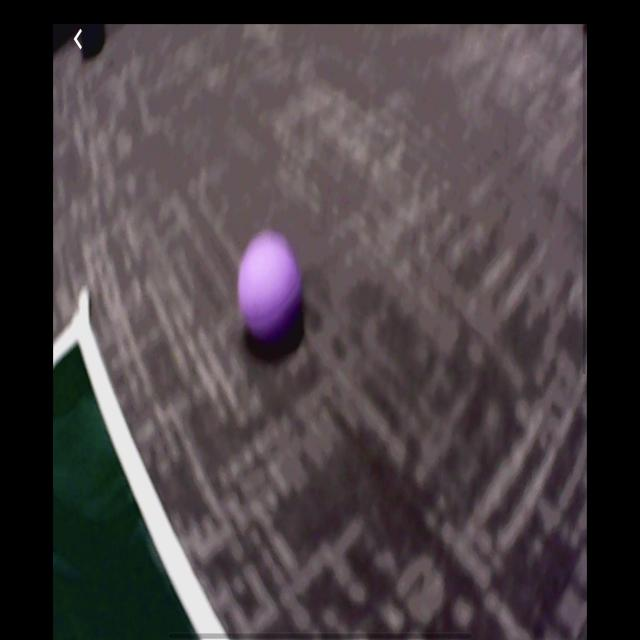ball: (240, 236, 300, 337)
